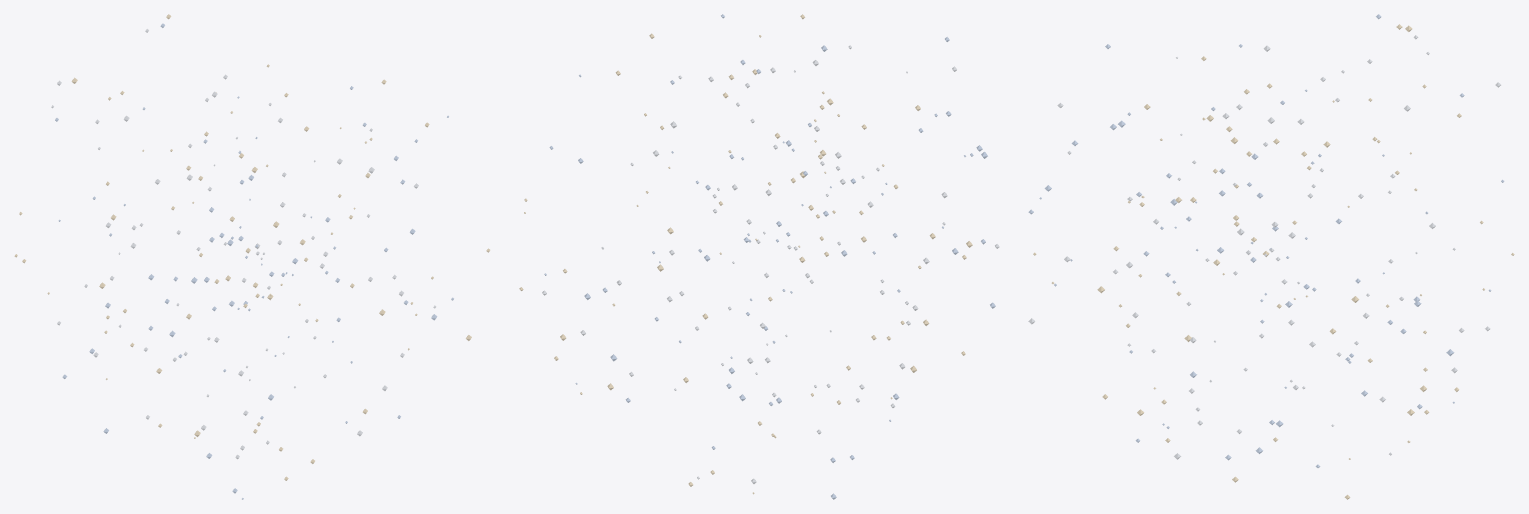
3 views of the same model, side by side, from view 1: azimuth 30°, elevation 25°; view 2: azimuth 150°, elevation 25°; view 3: azimuth 270°, elevation 25° (orthographic). The views are drawn at different scales.
Size of the model in its own units: 4.44 by 4.75 by 4.7.
